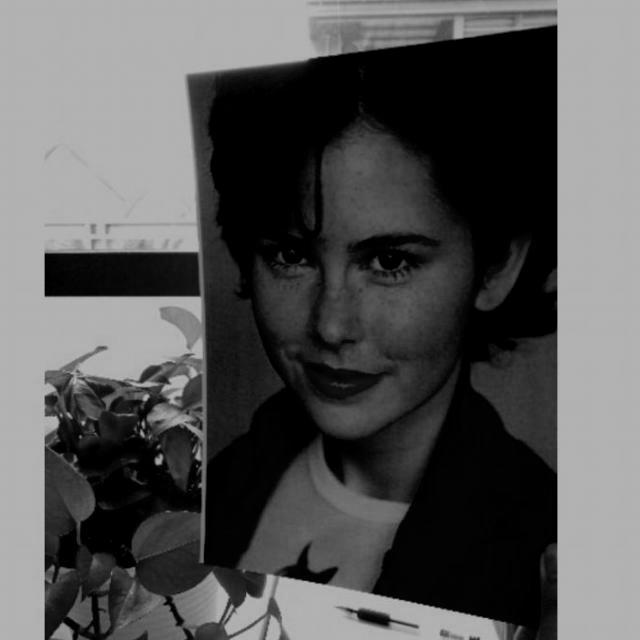fake: (196, 4, 558, 630)
